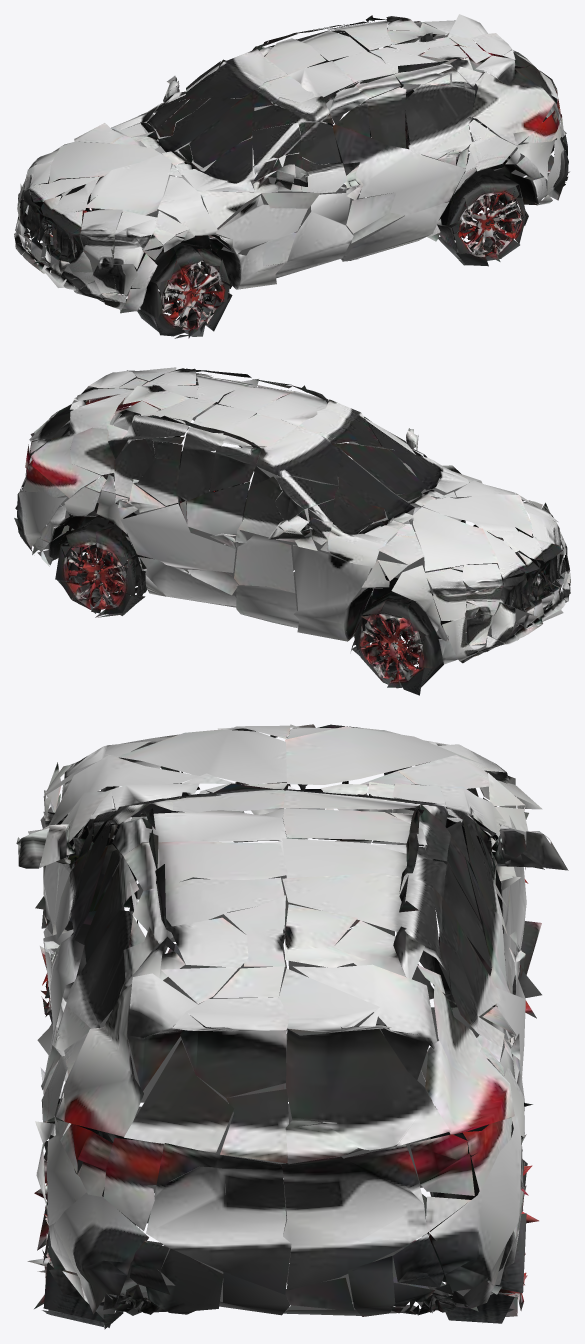
Rendered from getkong-mcar6-lo.glb.
The picture shows the model from 3 angles, top to bottom: view 1: azimuth 30°, elevation 25°; view 2: azimuth 150°, elevation 25°; view 3: azimuth 270°, elevation 25°; orthographic projection. The views are drawn at different scales.
Parts seen in each view (by area): view 1: Mesh_0; view 2: Mesh_0; view 3: Mesh_0.
Part boxes in pixels (bbox=[...]): Mesh_0: bbox=[14, 14, 569, 338]; Mesh_0: bbox=[14, 367, 570, 695]; Mesh_0: bbox=[16, 724, 568, 1329].
Bounding box in the file's own units: 2.02 × 0.7591 × 0.9531.
Materials: 1 (1 with a texture image).
